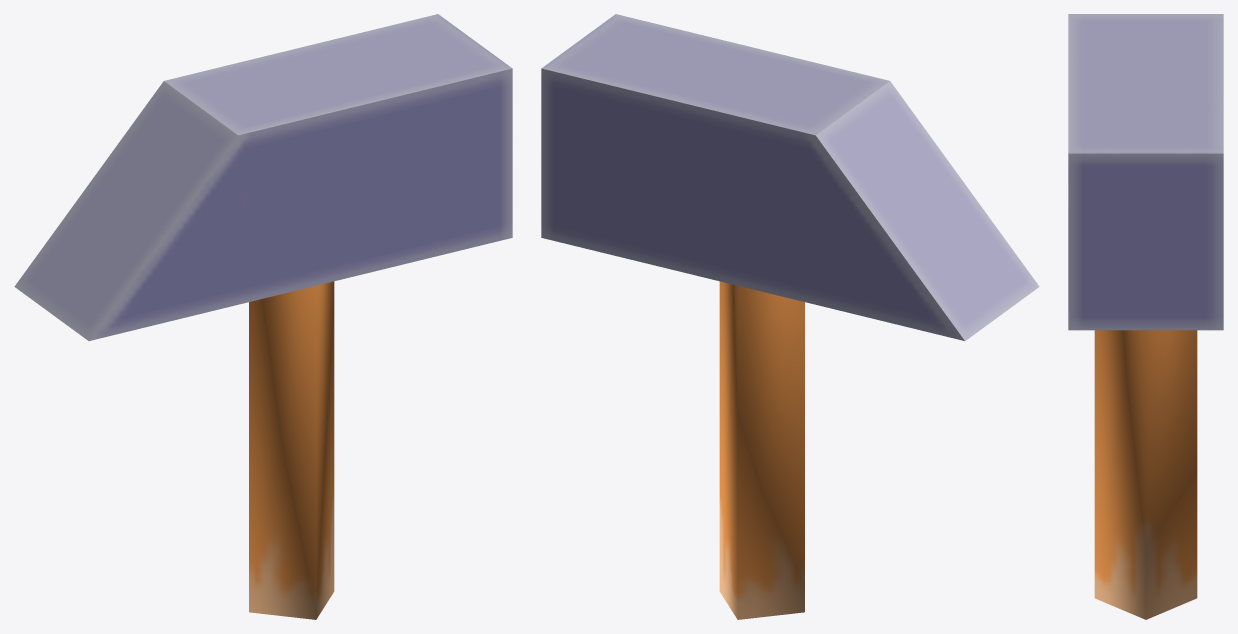
File: tiechui.FBX
The picture shows the model from 3 angles, left to right: view 1: azimuth 30°, elevation 25°; view 2: azimuth 150°, elevation 25°; view 3: azimuth 270°, elevation 25°; orthographic projection. The views are drawn at different scales.
Visible parts, largest first — view 1: Box001; view 2: Box001; view 3: Box001.
Part boxes in pixels (x1,y1,x2,y2): Box001: (14, 14, 512, 619); Box001: (541, 14, 1039, 619); Box001: (1068, 14, 1223, 619).
Bounding box in the file's own units: 58.89 × 68.5 × 17.92.
